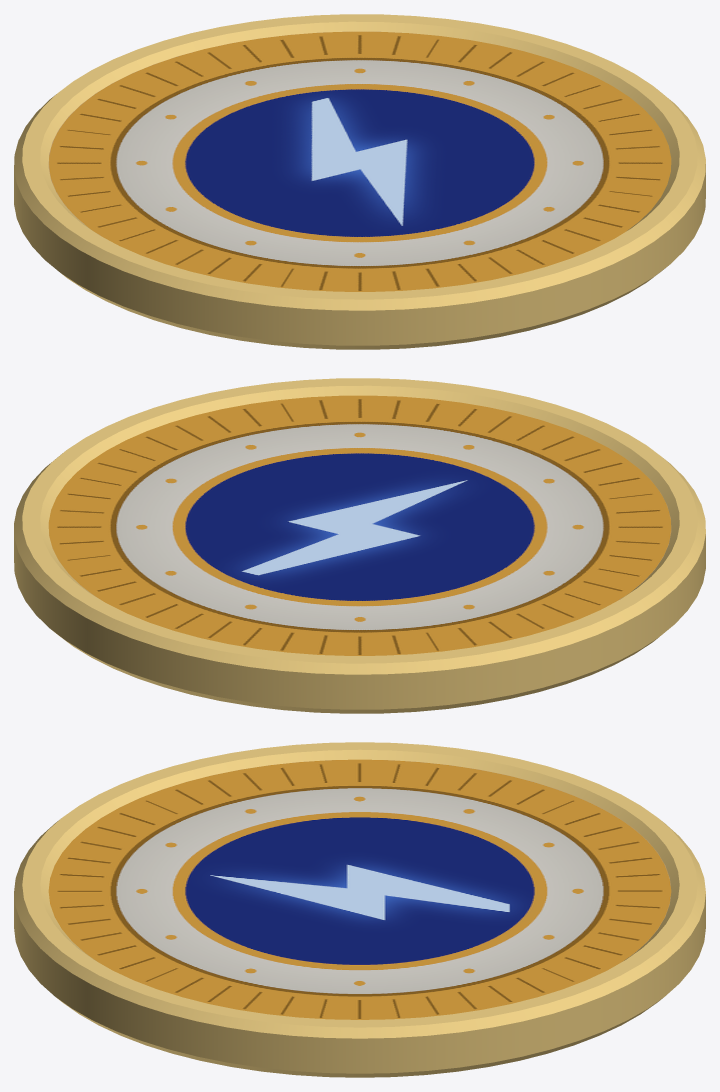
Rendered from coin.fbx.
3 renders of one model, top to bottom at view 1: azimuth 30°, elevation 25°; view 2: azimuth 150°, elevation 25°; view 3: azimuth 270°, elevation 25°, orthographic.
Visible parts, largest first — view 1: Coin; view 2: Coin; view 3: Coin.
Part boxes in pixels (x1,y1,x2,y2): Coin: (14,14,705,349); Coin: (14,378,705,713); Coin: (14,742,705,1077).
Size of the model in its own units: 1 by 0.08 by 1.
